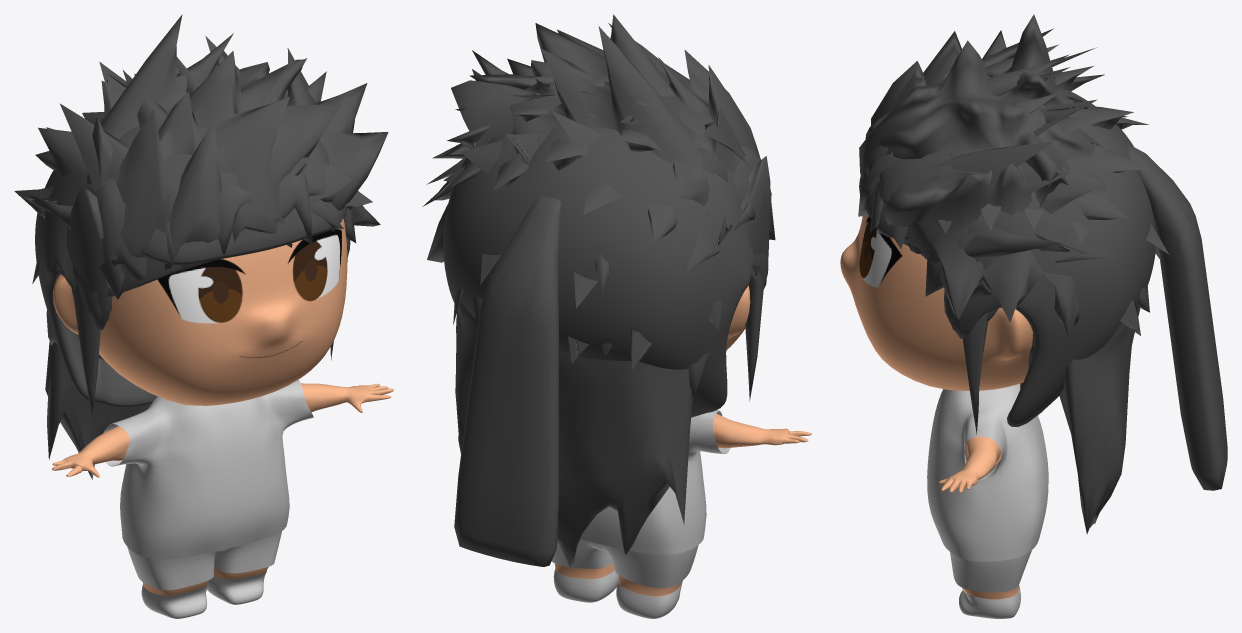
Rendered from Full.fbx.
3 renders of one model, left to right at view 1: azimuth 30°, elevation 25°; view 2: azimuth 150°, elevation 25°; view 3: azimuth 270°, elevation 25°, orthographic. The views are drawn at different scales.
Visible parts, largest first — view 1: HAIR_1_L, KATAWAN, DAMIT, HAIR_1_B, HAIR_2_B, HAIR_2_L, HAIR_3_B, SORT, RSHOES, LSHEOS, HAIR_3_L; view 2: HAIR_2_B, HAIR_3_B, HAIR_1_L, HAIR_1_B, HAIR_2_L, DAMIT, KATAWAN, SORT, HAIR_3_L, LSHEOS, RSHOES; view 3: HAIR_1_L, HAIR_2_B, KATAWAN, DAMIT, HAIR_2_L, HAIR_3_B, HAIR_1_B, SORT, HAIR_3_L, LSHEOS.
Boxes of the visible parts, x1,y1,x2,y2 form: HAIR_1_L: [32, 14, 388, 361]; KATAWAN: [51, 218, 393, 595]; DAMIT: [103, 379, 313, 559]; HAIR_1_B: [47, 132, 355, 479]; HAIR_2_B: [35, 118, 335, 407]; HAIR_2_L: [14, 36, 352, 334]; HAIR_3_B: [45, 202, 346, 395]; SORT: [127, 531, 281, 590]; RSHOES: [141, 582, 208, 618]; LSHEOS: [206, 570, 266, 604]; HAIR_3_L: [79, 94, 372, 289]; HAIR_2_B: [443, 97, 757, 417]; HAIR_3_B: [454, 196, 768, 566]; HAIR_1_L: [427, 14, 770, 398]; HAIR_1_B: [455, 109, 775, 570]; HAIR_2_L: [422, 74, 767, 369]; DAMIT: [580, 410, 730, 554]; KATAWAN: [554, 285, 811, 596]; SORT: [551, 539, 698, 588]; HAIR_3_L: [443, 93, 759, 272]; LSHEOS: [553, 569, 618, 602]; RSHOES: [616, 580, 682, 618]; HAIR_1_L: [859, 14, 1149, 412]; HAIR_2_B: [864, 89, 1155, 426]; KATAWAN: [840, 216, 1032, 599]; DAMIT: [927, 384, 1048, 561]; HAIR_2_L: [912, 28, 1169, 361]; HAIR_3_B: [859, 144, 1227, 490]; HAIR_1_B: [858, 93, 1140, 534]; SORT: [950, 550, 1031, 592]; HAIR_3_L: [877, 72, 1106, 248]; LSHEOS: [959, 585, 1020, 618].
Size of the model in its own units: 3.17 by 5.09 by 3.08.
